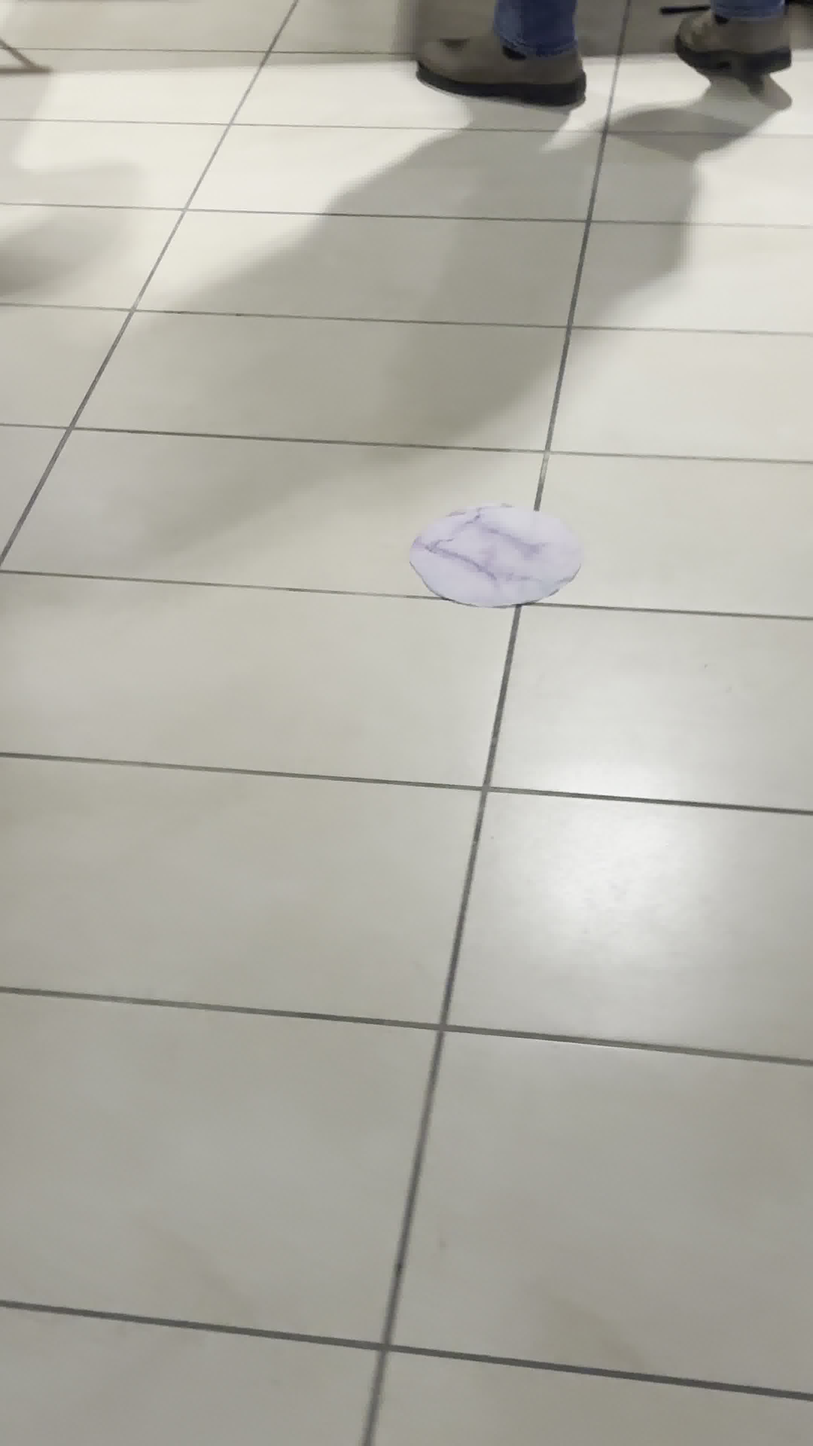Target: (414, 500, 580, 610)
